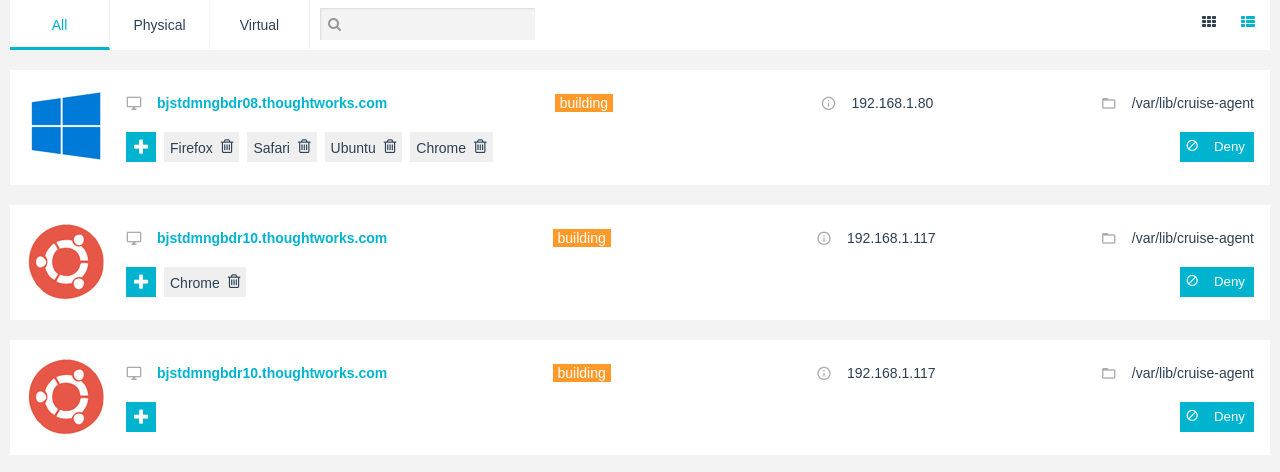
AgentList › should delete a resource when click del-btn
This screenshot has width=1280, height=472.
Click the icon with test id "del-Firefox": (227, 146) [221,138,233,154]
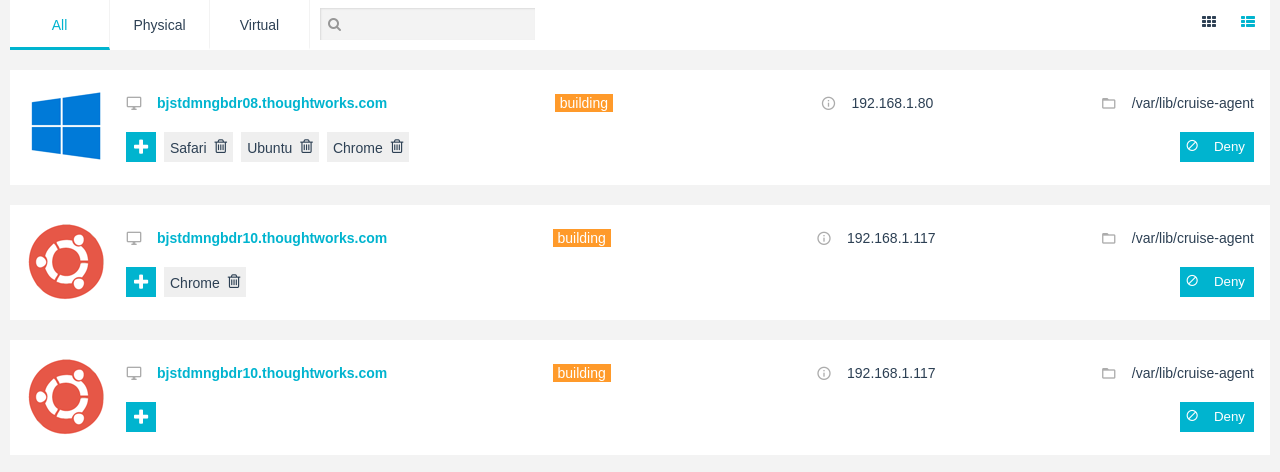
Check: the button with test id "Firefox" is gone
